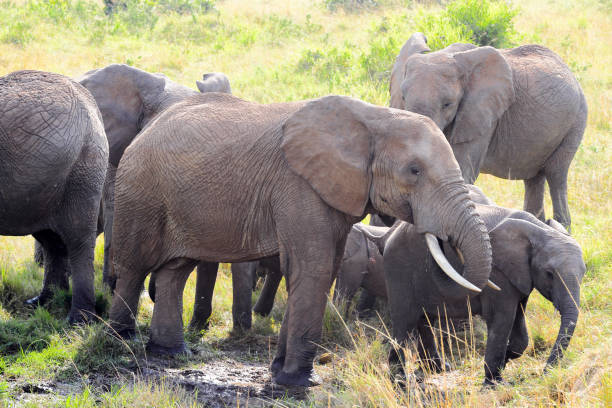africanelephant: (266, 78, 493, 295)
